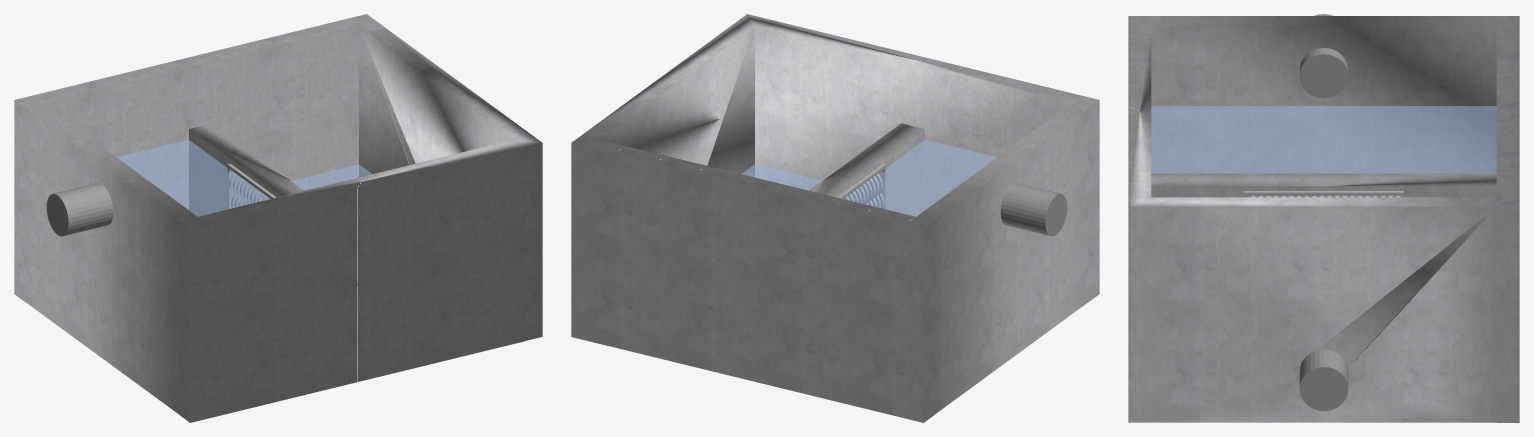
File: rototamis.glb
3 views of the same model, side by side, from view 1: azimuth 30°, elevation 25°; view 2: azimuth 150°, elevation 25°; view 3: azimuth 270°, elevation 25° (orthographic). The views are drawn at different scales.
Visible parts, largest first — view 1: obra_civil_dwg1, Aigua___Aigua_1143932__3D_1, tubeiras_dwg1, Aigua1___Aigua_1144001__3D_1, Tamiz_de_discos___Tamiz_de_discos_1141875__3D_1; view 2: obra_civil_dwg1, Aigua___Aigua_1143932__3D_1, tubeiras_dwg1, Aigua1___Aigua_1144001__3D_1, Tamiz_de_discos___Tamiz_de_discos_1141875__3D_1; view 3: obra_civil_dwg1, Aigua___Aigua_1143932__3D_1, tubeiras_dwg1, Tamiz_de_discos___Tamiz_de_discos_1141875__3D_1.
Boxes of the visible parts, x1,y1,x2,y2 form: obra_civil_dwg1: (14,14,542,422); Aigua___Aigua_1143932__3D_1: (117,140,269,216); tubeiras_dwg1: (46,183,113,236); Aigua1___Aigua_1144001__3D_1: (292,164,371,190); Tamiz_de_discos___Tamiz_de_discos_1141875__3D_1: (227,163,276,209); obra_civil_dwg1: (571,14,1099,422); Aigua___Aigua_1143932__3D_1: (844,140,996,216); tubeiras_dwg1: (1000,183,1067,236); Aigua1___Aigua_1144001__3D_1: (742,164,821,190); Tamiz_de_discos___Tamiz_de_discos_1141875__3D_1: (837,163,886,209); obra_civil_dwg1: (1128,16,1519,422); Aigua___Aigua_1143932__3D_1: (1151,106,1496,197); tubeiras_dwg1: (1299,14,1348,411); Tamiz_de_discos___Tamiz_de_discos_1141875__3D_1: (1244,191,1403,197).
Bounding box in the file's own units: 7.23 × 3.12 × 5.13.
46 materials, 1 textured.
